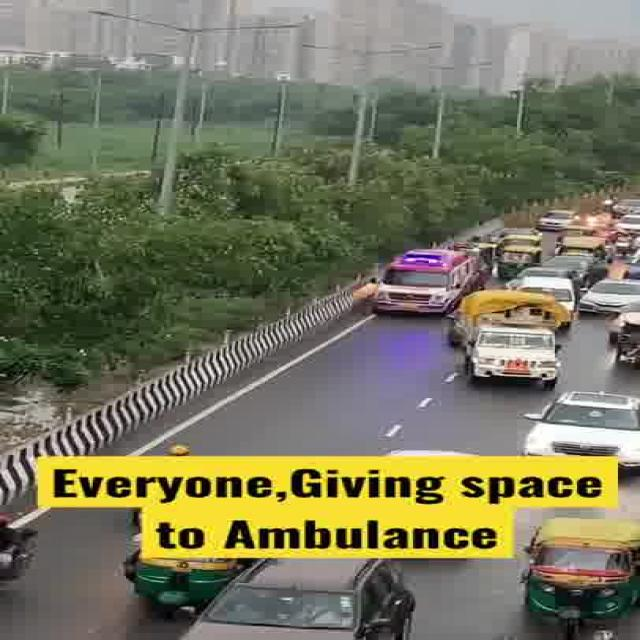ambulance: (370, 247, 470, 306)
